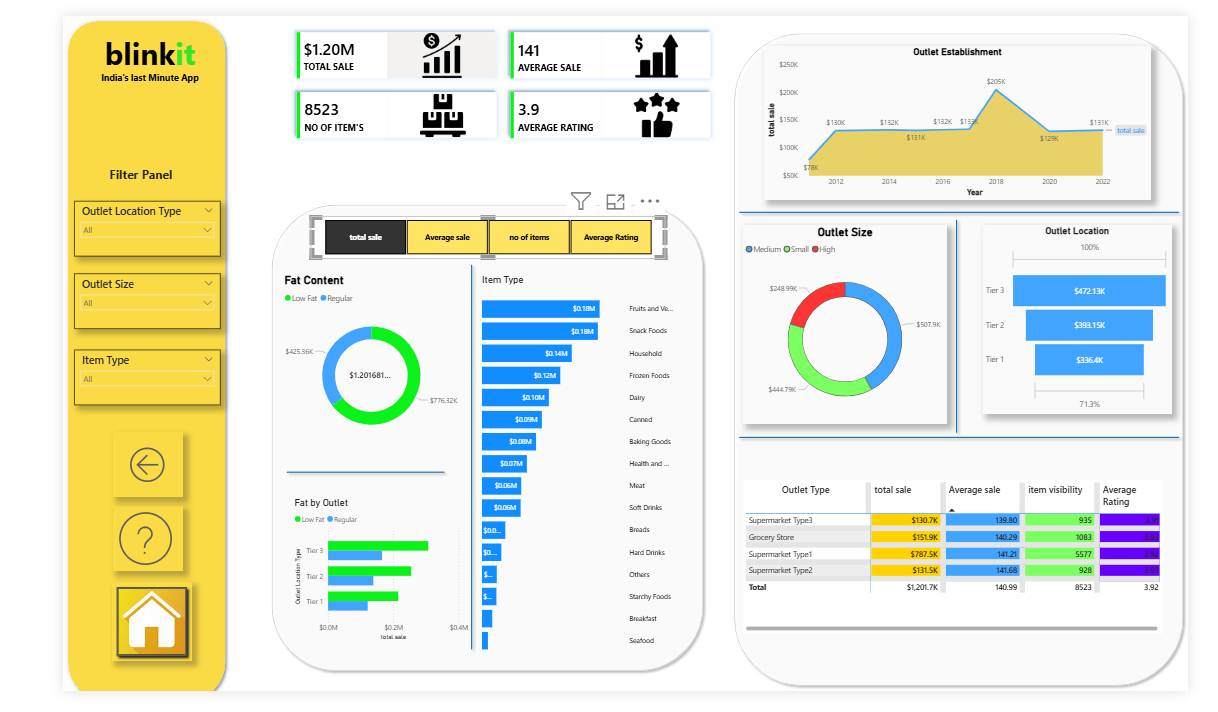

The dashboard page shown, as its layout file describes it:
{"tool":"powerbi","page":{"name":"Page 1","canvas":[2000,1200],"ordinal":0},"visuals":[{"type":"shape","box":[0,0,297.5,1227.5],"z":0},{"type":"textbox","box":[42.5,25,225,137.5],"z":1000},{"type":"textbox","box":[56,94,198,70],"z":2000},{"type":"cardVisual","fields":{"Data":["BlinkIT Grocery Data.total sale","BlinkIT Grocery Data.Average sale","BlinkIT Grocery Data.no of items","BlinkIT Grocery Data.Average Rating"]},"box":[387.5,0,795,247.5],"z":3000},{"type":"shape","box":[362.1,327.6,784.5,846.6],"z":4000},{"type":"donutChart","title":"Fat Content","fields":{"Y":["BlinkIT Grocery Data.total sale"],"Category":["BlinkIT Grocery Data.Item Fat Content"]},"box":[387.9,458.6,319,310.3],"z":5000},{"type":"slicer","fields":{"Values":["Metrics.Metrics"]},"box":[440,355,630,75],"z":6000},{"type":"cardVisual","fields":{"Data":["BlinkIT Grocery Data.total sale"]},"box":[479.3,593.1,136.2,87.9],"z":7000},{"type":"clusteredBarChart","title":"Fat by Outlet","fields":{"Y":["BlinkIT Grocery Data.total sale"],"Category":["BlinkIT Grocery Data.Outlet Location Type"],"Series":["BlinkIT Grocery Data.Item Fat Content"]},"box":[406.9,855.2,319,260.3],"z":8000},{"type":"shape","box":[387.9,681,298.3,262.1],"z":9000},{"type":"shape","box":[712.3,433.3,26.3,701.8],"z":10000},{"type":"barChart","title":"Item Type","fields":{"Y":["BlinkIT Grocery Data.total sale"],"Category":["BlinkIT Grocery Data.Item Type"]},"box":[739.7,458.6,362.1,689.7],"z":11000},{"type":"shape","box":[1184.3,22.9,815.7,1177.1],"z":12000},{"type":"lineChart","title":" Outlet Establishment ","fields":{"Y":["BlinkIT Grocery Data.total sale"],"Category":["BlinkIT Grocery Data.Outlet Establishment Year"]},"box":[1247.4,54.4,687.7,273.7],"z":13000},{"type":"shape","box":[1193,328.1,800,40.4],"z":14000},{"type":"donutChart","title":"Outlet Size ","fields":{"Y":["BlinkIT Grocery Data.total sale"],"Category":["BlinkIT Grocery Data.Outlet Size"]},"box":[1208.8,370.2,363.2,354.4],"z":15000},{"type":"funnel","title":"Outlet Location","fields":{"Y":["BlinkIT Grocery Data.total sale"],"Category":["BlinkIT Grocery Data.Outlet Location Type"]},"box":[1635.1,370.2,335.1,336.8],"z":16000},{"type":"pivotTable","fields":{"Rows":["BlinkIT Grocery Data.Outlet Type"],"Values":["BlinkIT Grocery Data.total sale","BlinkIT Grocery Data.Average sale","BlinkIT Grocery Data.no of items","BlinkIT Grocery Data.Average Rating"]},"box":[1208.8,824.6,745.6,273.7],"z":17000},{"type":"shape","box":[1193,738.6,800,22.8],"z":18000},{"type":"shape","box":[1571.9,354.4,35.1,396.5],"z":18001},{"type":"slicer","fields":{"Values":["BlinkIT Grocery Data.Item Type"]},"box":[19.3,593,259.6,98.2],"z":18002},{"type":"slicer","fields":{"Values":["BlinkIT Grocery Data.Outlet Size"]},"box":[19.3,457.9,259.6,98.2],"z":18003},{"type":"slicer","fields":{"Values":["BlinkIT Grocery Data.Outlet Location Type"]},"box":[19.3,328.1,259.6,98.2],"z":18004},{"type":"actionButton","box":[86,771.9,91.2,52.6],"z":18005},{"type":"actionButton","box":[89.5,740.4,124.6,115.8],"z":18006},{"type":"actionButton","box":[89.5,870.2,124.6,115.8],"z":18007},{"type":"textbox","box":[61.4,261.4,152.6,66.7],"z":18009},{"type":"actionButton","box":[86,1007,142.1,140.4],"z":18010}]}

Visuals, with their boxes in screenshot pixels (x1, y1, x2, y2), scaled from the page's 2000x1200 canvas onto the 1218x712 screenshot:
shape: {"x1": 0, "y1": 0, "x2": 181, "y2": 711}
textbox: {"x1": 26, "y1": 15, "x2": 163, "y2": 96}
textbox: {"x1": 34, "y1": 56, "x2": 155, "y2": 97}
cardVisual - BlinkIT Grocery Data.total sale x BlinkIT Grocery Data.Average sale: {"x1": 236, "y1": 0, "x2": 720, "y2": 147}
shape: {"x1": 221, "y1": 194, "x2": 698, "y2": 697}
"Fat Content" donutChart: {"x1": 236, "y1": 272, "x2": 431, "y2": 456}
slicer - Metrics.Metrics: {"x1": 268, "y1": 211, "x2": 652, "y2": 255}
cardVisual - BlinkIT Grocery Data.total sale: {"x1": 292, "y1": 352, "x2": 375, "y2": 404}
"Fat by Outlet" clusteredBarChart: {"x1": 248, "y1": 507, "x2": 442, "y2": 662}
shape: {"x1": 236, "y1": 404, "x2": 418, "y2": 560}
shape: {"x1": 434, "y1": 257, "x2": 450, "y2": 673}
"Item Type" barChart: {"x1": 450, "y1": 272, "x2": 671, "y2": 681}
shape: {"x1": 721, "y1": 14, "x2": 1217, "y2": 711}
" Outlet Establishment " lineChart: {"x1": 760, "y1": 32, "x2": 1178, "y2": 195}
shape: {"x1": 727, "y1": 195, "x2": 1214, "y2": 219}
"Outlet Size " donutChart: {"x1": 736, "y1": 220, "x2": 957, "y2": 430}
"Outlet Location" funnel: {"x1": 996, "y1": 220, "x2": 1200, "y2": 419}
pivotTable - BlinkIT Grocery Data.Outlet Type x BlinkIT Grocery Data.total sale: {"x1": 736, "y1": 489, "x2": 1190, "y2": 652}
shape: {"x1": 727, "y1": 438, "x2": 1214, "y2": 452}
shape: {"x1": 957, "y1": 210, "x2": 979, "y2": 446}
slicer - BlinkIT Grocery Data.Item Type: {"x1": 12, "y1": 352, "x2": 170, "y2": 410}
slicer - BlinkIT Grocery Data.Outlet Size: {"x1": 12, "y1": 272, "x2": 170, "y2": 330}
slicer - BlinkIT Grocery Data.Outlet Location Type: {"x1": 12, "y1": 195, "x2": 170, "y2": 253}
actionButton: {"x1": 52, "y1": 458, "x2": 108, "y2": 489}
actionButton: {"x1": 55, "y1": 439, "x2": 130, "y2": 508}
actionButton: {"x1": 55, "y1": 516, "x2": 130, "y2": 585}
textbox: {"x1": 37, "y1": 155, "x2": 130, "y2": 195}
actionButton: {"x1": 52, "y1": 597, "x2": 139, "y2": 681}
